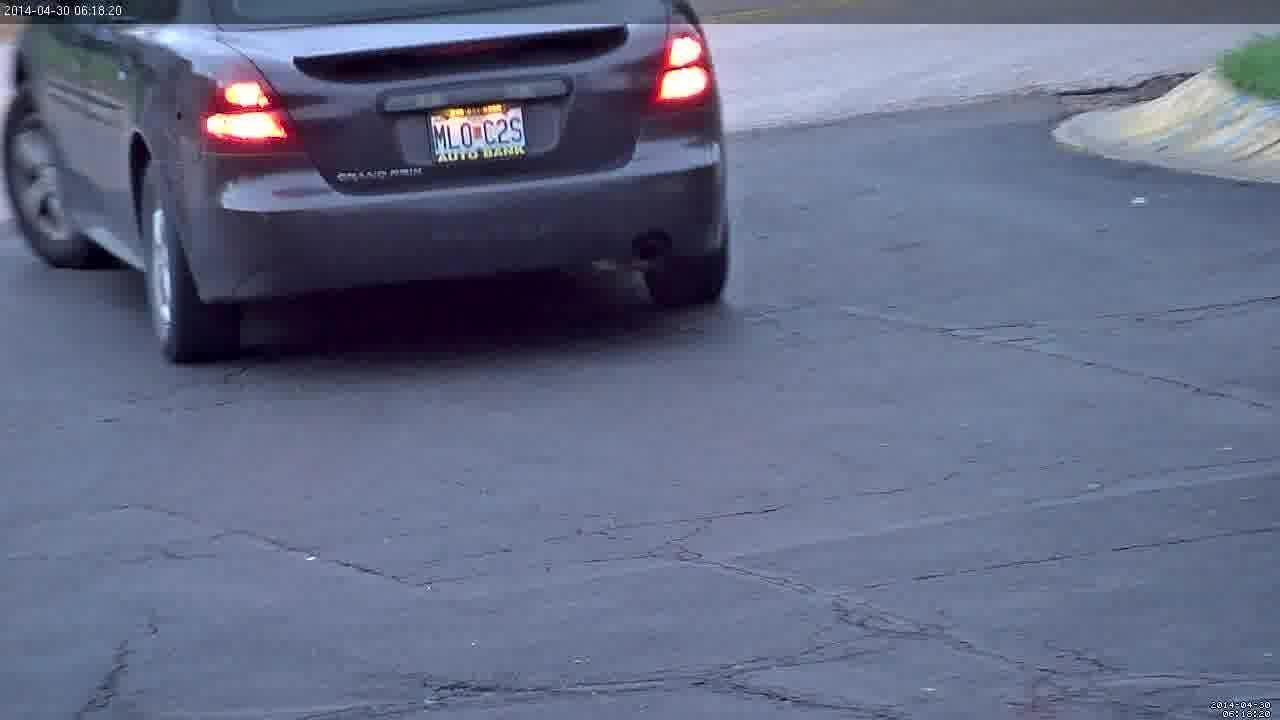placa de veiculo: (418, 91, 540, 175)
